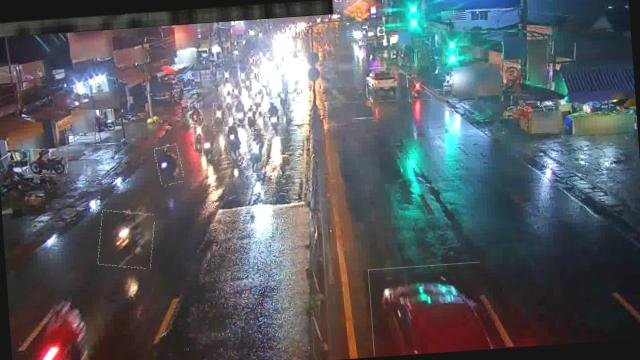Bike: (96, 208, 156, 270), (26, 147, 68, 177), (154, 144, 183, 185), (244, 132, 268, 174), (262, 99, 284, 139), (223, 124, 247, 158), (406, 71, 424, 102), (200, 124, 216, 156), (210, 102, 226, 128), (250, 86, 266, 112), (244, 104, 259, 129), (188, 103, 202, 128), (192, 121, 203, 148), (232, 98, 244, 120), (222, 90, 233, 113), (277, 86, 287, 107)
Car: (368, 262, 486, 356), (365, 66, 402, 97)
